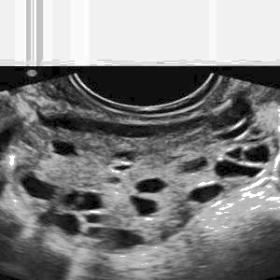PCOS: (18, 170, 63, 203), (186, 180, 223, 208), (39, 213, 80, 238), (214, 161, 264, 181), (111, 226, 144, 251), (124, 194, 160, 216), (48, 136, 80, 160), (136, 174, 168, 197), (176, 155, 212, 175), (74, 192, 105, 212), (243, 145, 272, 166), (112, 146, 138, 162), (60, 189, 76, 209), (83, 209, 103, 225), (227, 146, 245, 161), (85, 226, 102, 240), (111, 164, 133, 173), (106, 176, 124, 187)
